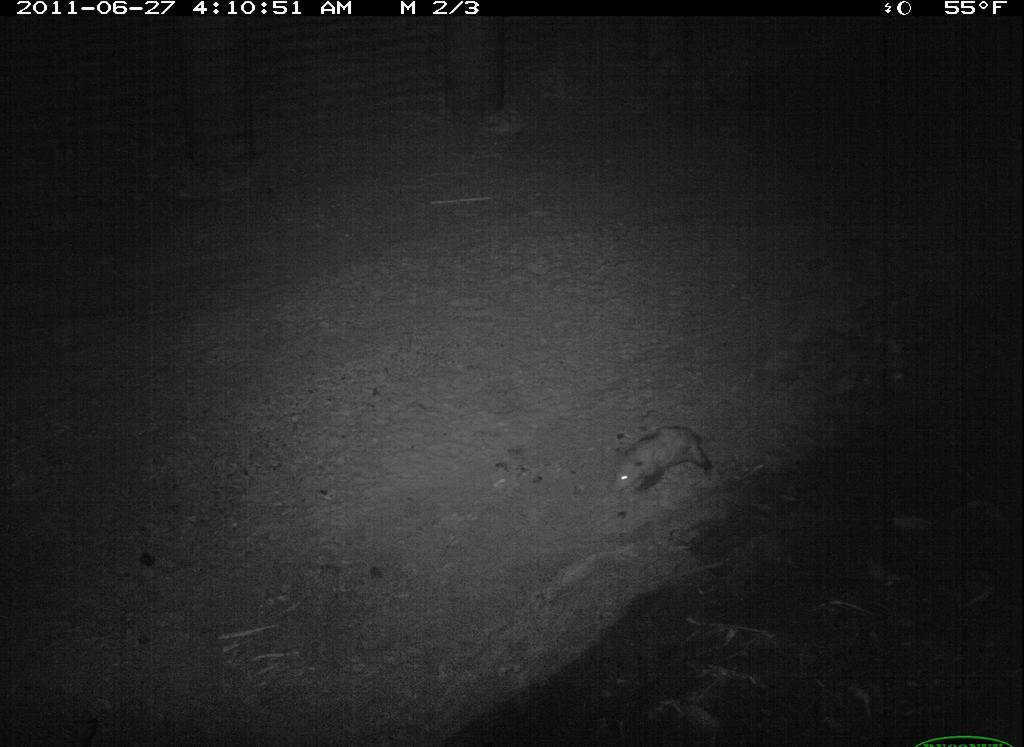opossum: (589, 415, 734, 507)
